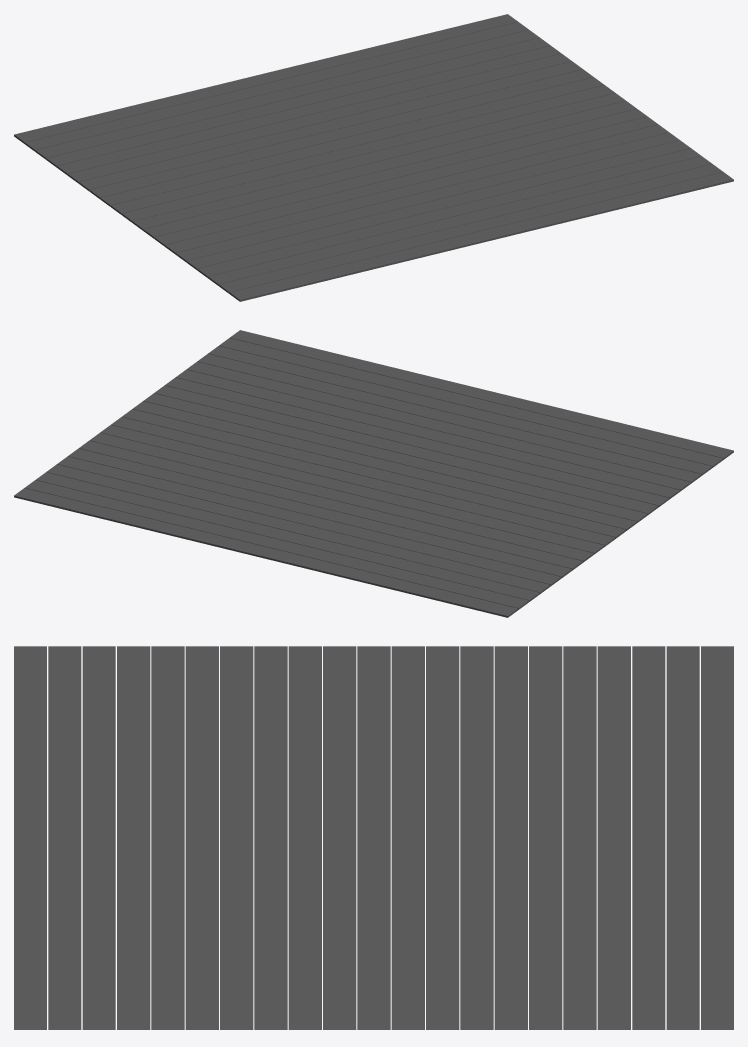
Rendered from Parquet_5.fbx.
The picture shows the model from 3 angles, top to bottom: view 1: azimuth 30°, elevation 25°; view 2: azimuth 150°, elevation 25°; view 3: azimuth 270°, elevation 25°; orthographic projection. The views are drawn at different scales.
Parts seen in each view (by area): view 1: Parquet_5; view 2: Parquet_5; view 3: Parquet_5.
Boxes of the visible parts, left/top/right/bottom form: Parquet_5: left=14, top=14, right=733, bottom=301; Parquet_5: left=14, top=330, right=733, bottom=617; Parquet_5: left=14, top=646, right=733, bottom=1029.
Bounding box in the file's own units: 463 × 367 × 1.62.
